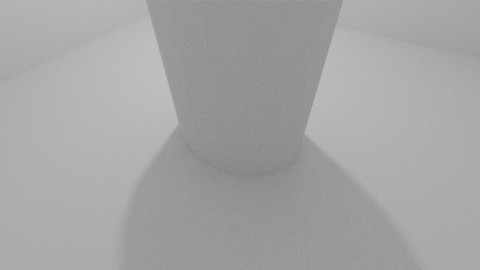cheminee: (146, 1, 343, 176)
